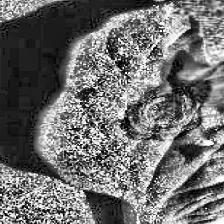disease: (34, 0, 224, 224)
